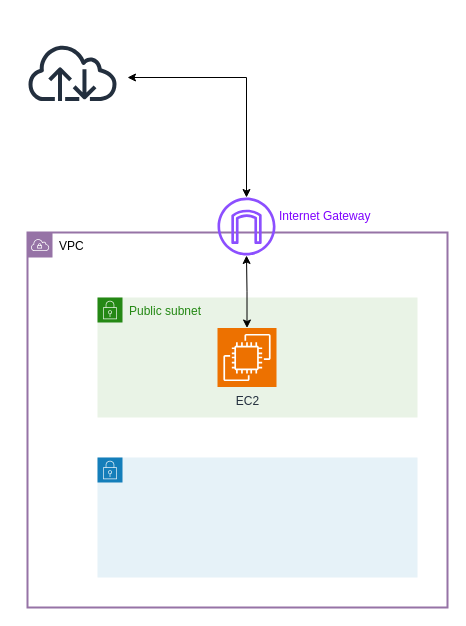
The diagram is 466 pixels wide and 626 high, and some of its shapes have lost their labels. The centre of each missing label's shape, as x and y in pixels:
"Internet" goes at (72,72).
"Private subnet" goes at (257,517).
